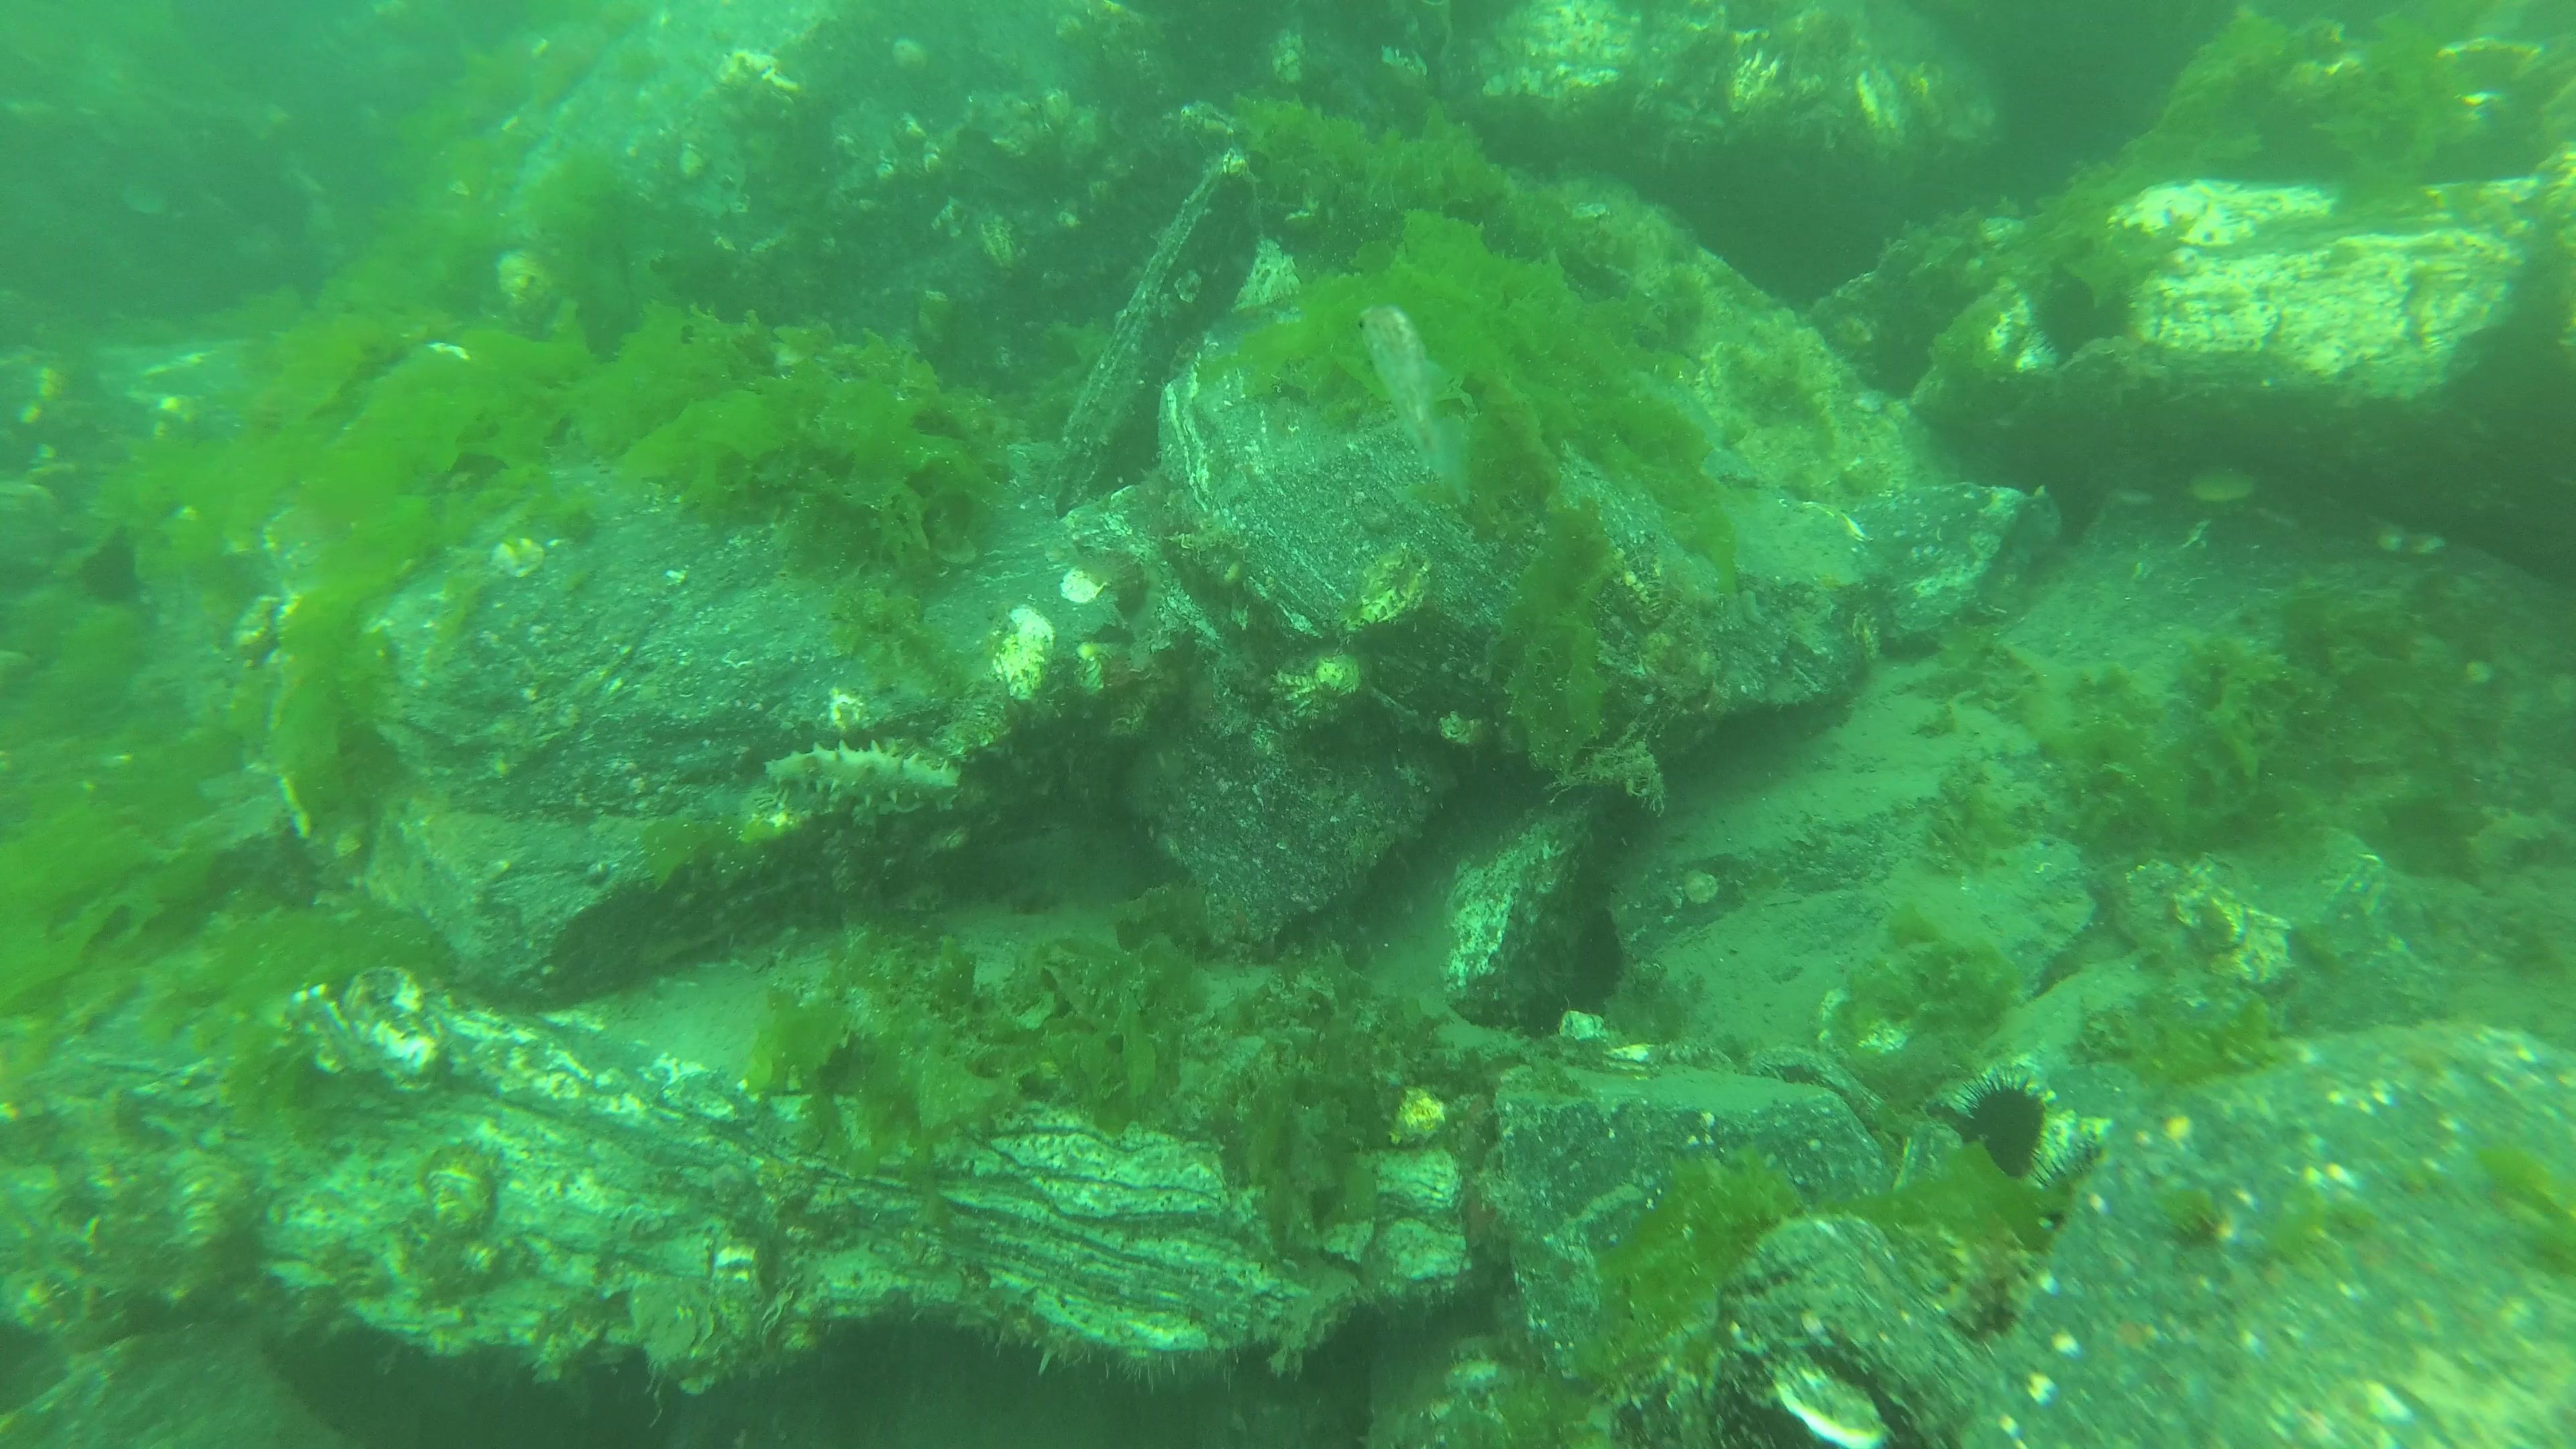echinus: (1941, 1063, 2059, 1184)
holothurian: (754, 731, 968, 821)
